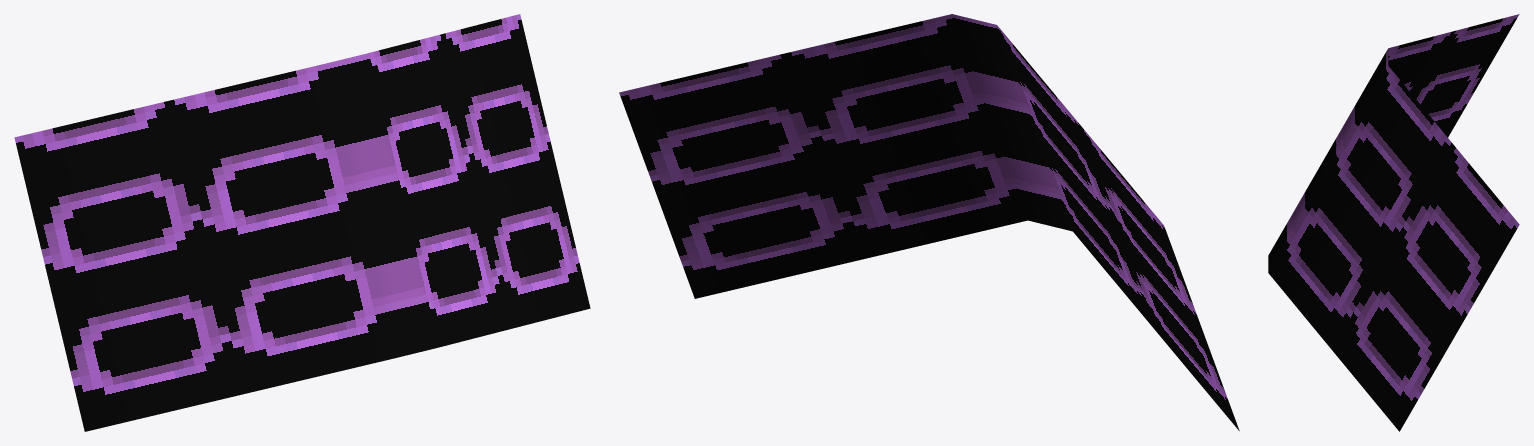
File: 5784head106_c.gltf
3 views of the same model, side by side, from view 1: azimuth 30°, elevation 25°; view 2: azimuth 150°, elevation 25°; view 3: azimuth 270°, elevation 25° (orthographic). The views are drawn at different scales.
Visible parts, largest first — view 1: 5784head106_c; view 2: 5784head106_c; view 3: 5784head106_c.
Part boxes in pixels (x1,y1,x2,y2): 5784head106_c: [14, 14, 590, 431]; 5784head106_c: [619, 14, 1239, 430]; 5784head106_c: [1268, 14, 1519, 431].
Bounding box in the file's own units: 0.6523 × 0.3896 × 0.3291.
Materials: 1 (1 with a texture image).
